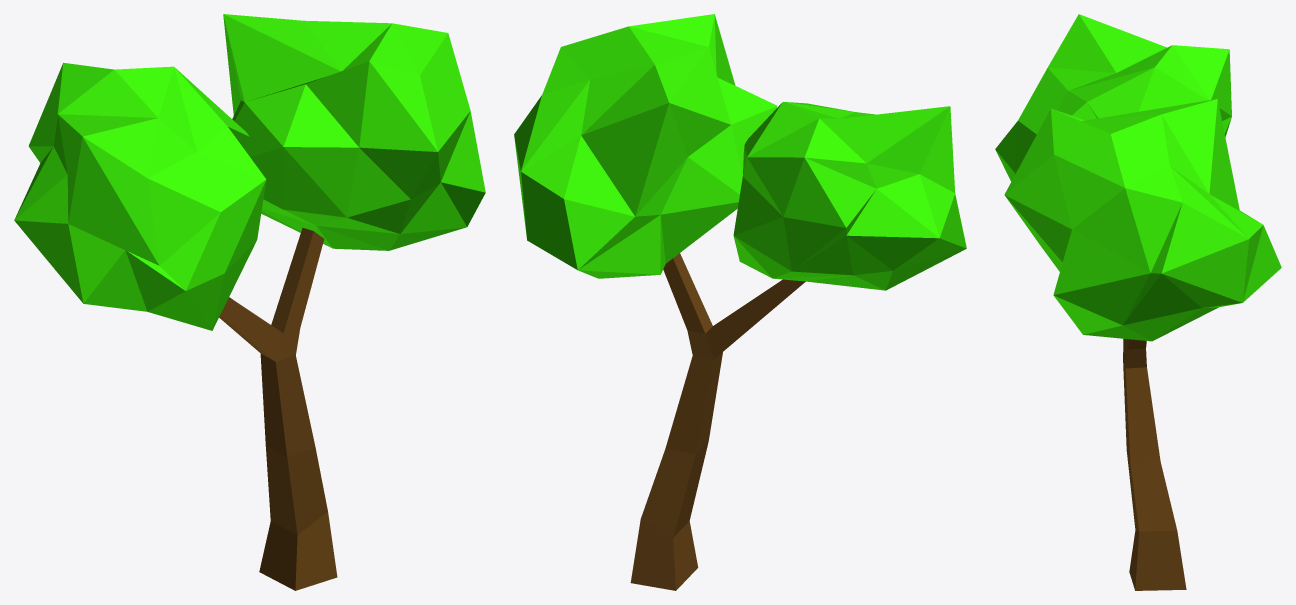
The model's file is Arbol_Lowpoly2.FBX.
3 renders of one model, left to right at view 1: azimuth 30°, elevation 25°; view 2: azimuth 150°, elevation 25°; view 3: azimuth 270°, elevation 25°, orthographic. The views are drawn at different scales.
Parts seen in each view (by area): view 1: Tree 004; view 2: Tree 004; view 3: Tree 004.
Part boxes in pixels (bbox=[...]): Tree 004: bbox=[14, 14, 485, 590]; Tree 004: bbox=[514, 14, 966, 590]; Tree 004: bbox=[995, 14, 1281, 590].
Size of the model in its own units: 1014 by 1201 by 655.
